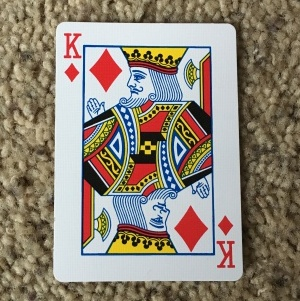card: (54, 20, 245, 281)
